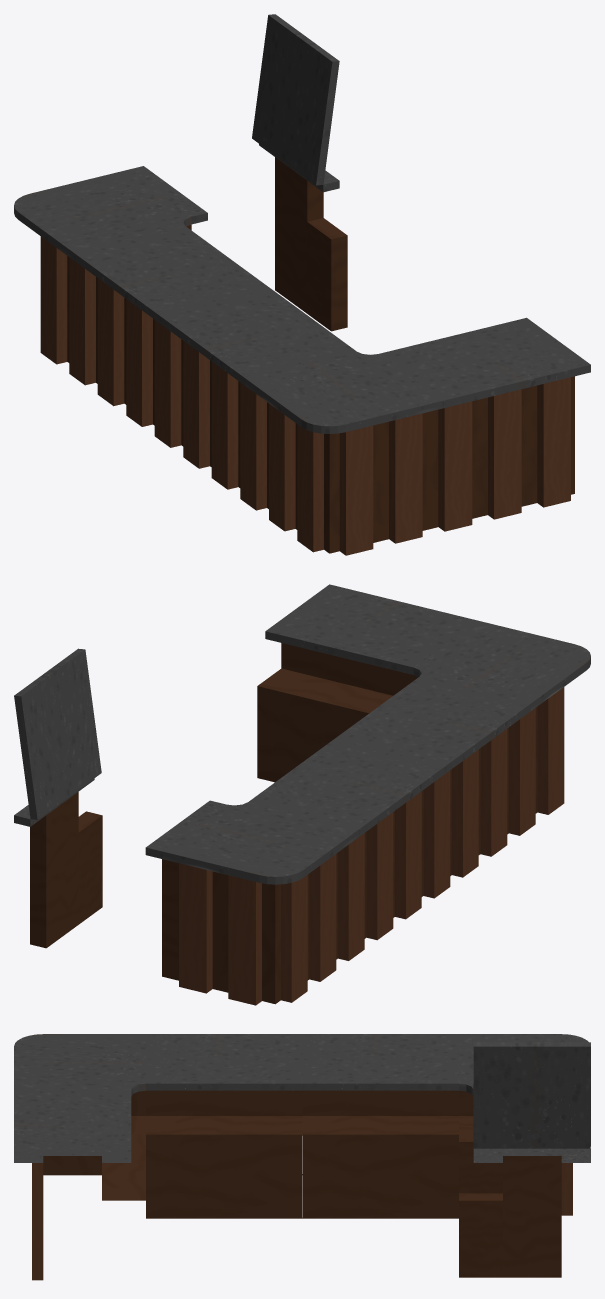
The model's file is Mostrador.fbx.
The picture shows the model from 3 angles, top to bottom: view 1: azimuth 30°, elevation 25°; view 2: azimuth 150°, elevation 25°; view 3: azimuth 270°, elevation 25°; orthographic projection. The views are drawn at different scales.
Visible parts, largest first — view 1: MostradorEsquina.001; view 2: MostradorEsquina.001; view 3: MostradorEsquina.001.
Part boxes in pixels (x1,y1,x2,y2): MostradorEsquina.001: (14,14,590,555); MostradorEsquina.001: (14,584,590,1005); MostradorEsquina.001: (14,1034,590,1280).
Bounding box in the file's own units: 369 × 337 × 738.
